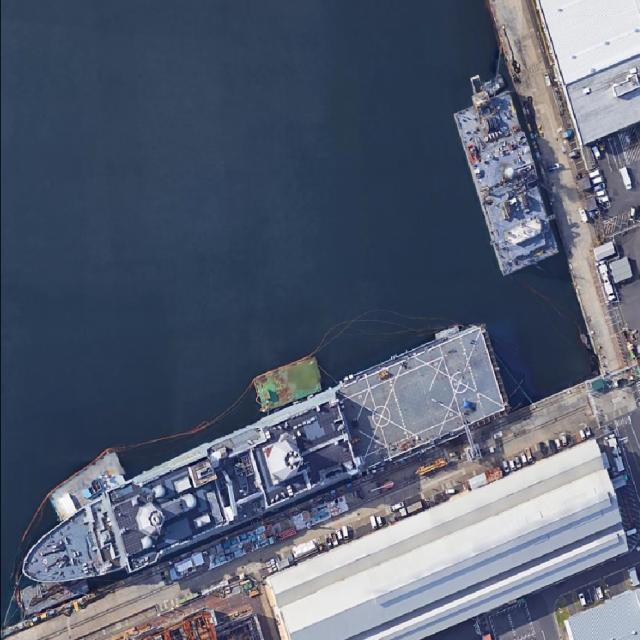Auxiliary Ships: (1, 319, 518, 612)
